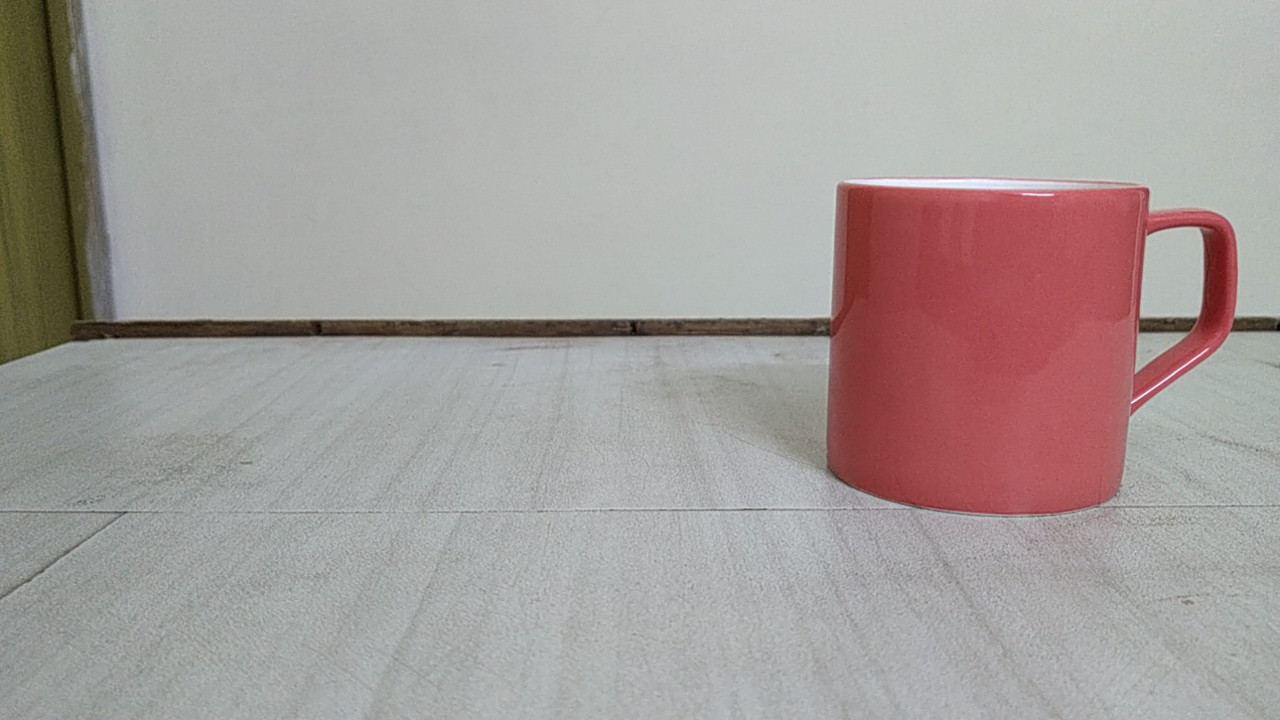cup: (815, 162, 1248, 524)
